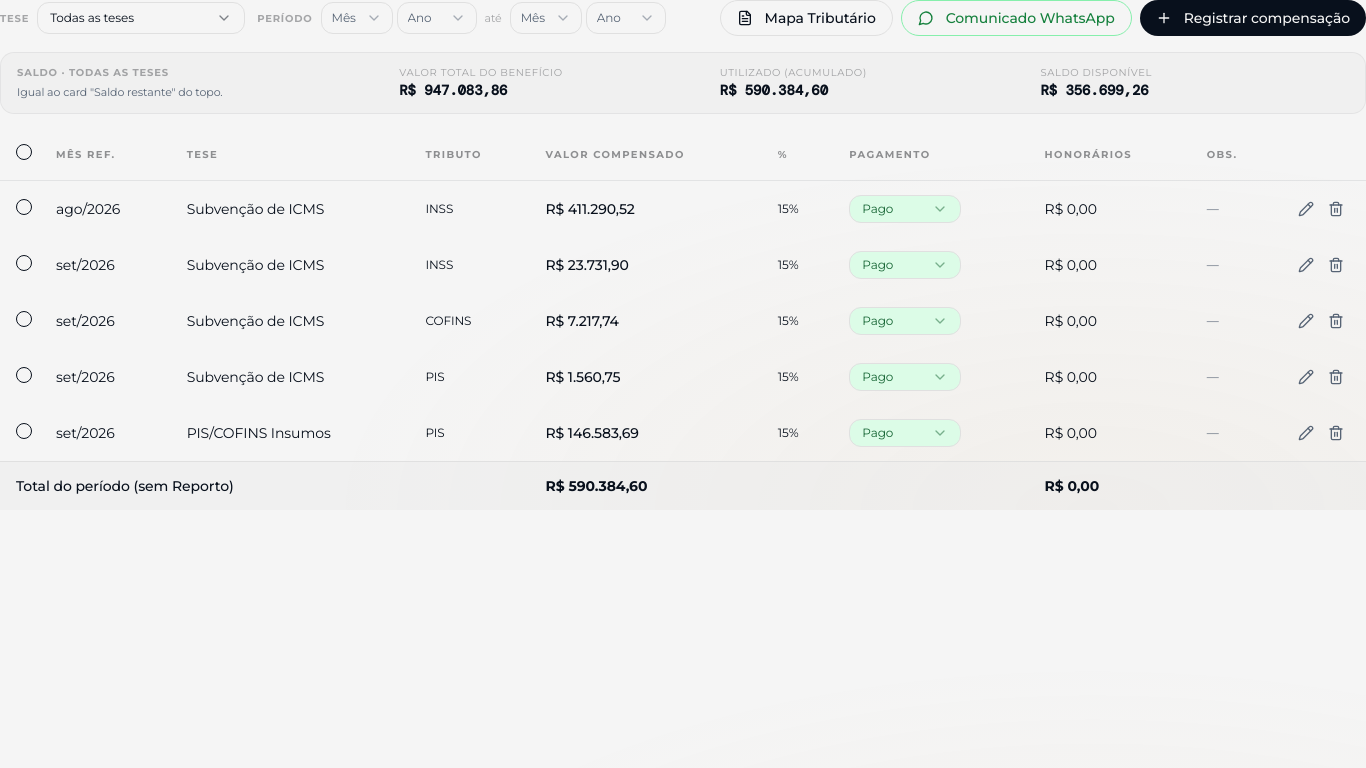
Test: aba Compensações · saldo por tese (itens 6 e 7) › abre o Mapa Tributário sem erro com processos duplicados de Subvenção
The image size is (1366, 768).
Click the button "Mapa Tributário" at x=806, y=18, box [720,0,893,36]
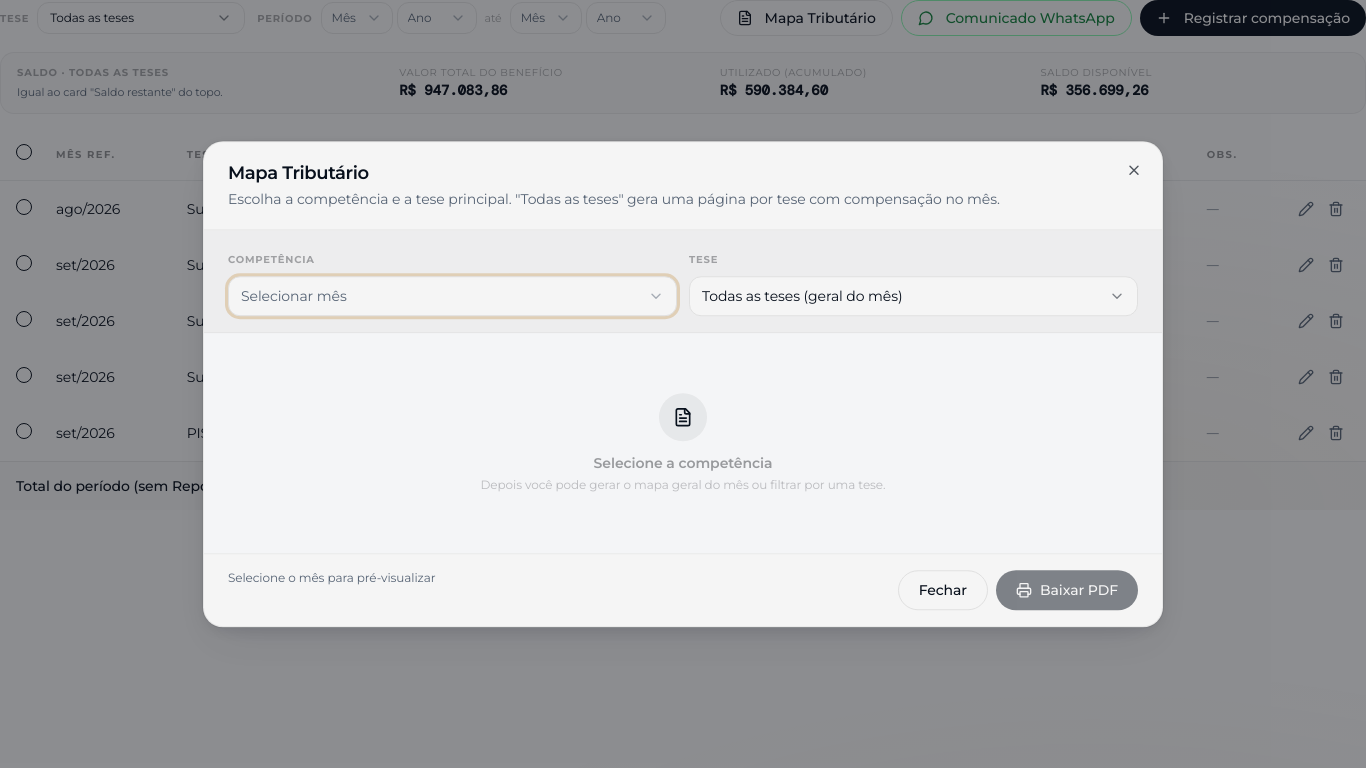
Check: the dialog is shown, box [203,141,1163,627]
